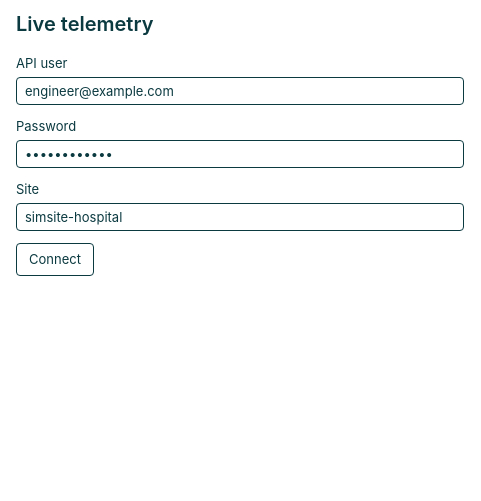
Test: Live page (G2) › logs in, lists assets, and shows a live value with its quality code
The image size is (481, 501).
Click the button "Connect".
click(55, 260)  # box [16, 243, 94, 276]
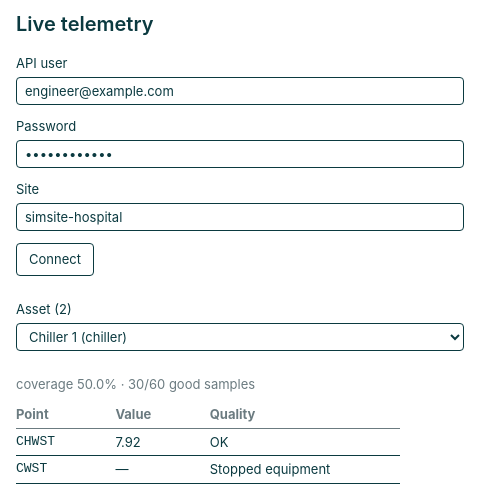
Expected: the cell with test id "value-CHWST" is shown, [115, 428, 210, 456]
Expected: the cell with test id "value-CHWST" reads "7.92", [115, 434, 141, 450]
Expected: the text "OK" is shown, [210, 428, 400, 456]
